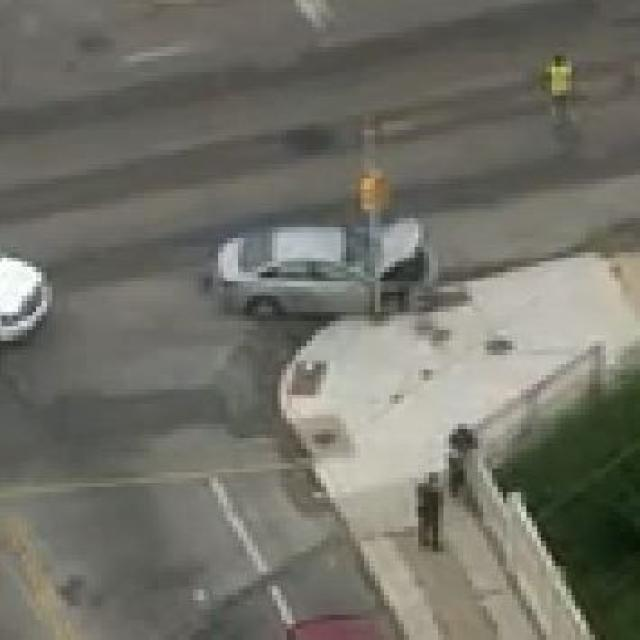traffic_incident: (211, 209, 433, 321)
